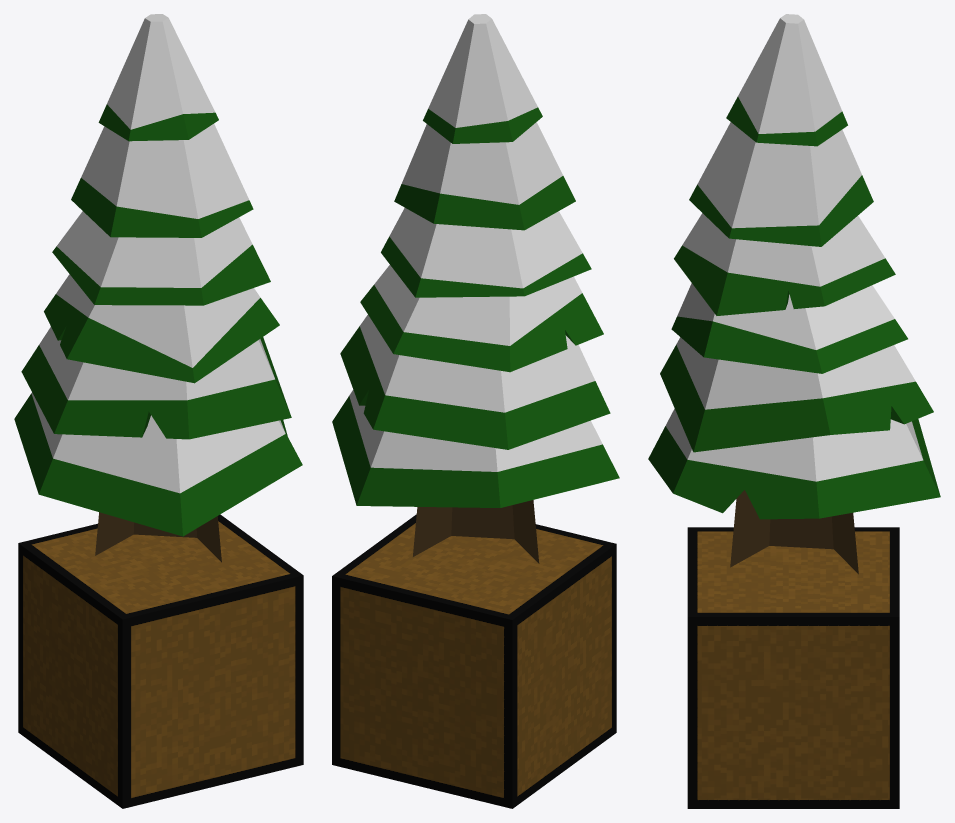
Rendered from PineTree3.glb.
3 renders of one model, left to right at view 1: azimuth 30°, elevation 25°; view 2: azimuth 150°, elevation 25°; view 3: azimuth 270°, elevation 25°, orthographic.
Visible parts, largest first — view 1: Pine, DirtBaked; view 2: Pine, DirtBaked; view 3: Pine, DirtBaked.
Boxes of the visible parts, x1=… form: Pine: x1=14, y1=14, x2=302, y2=562; DirtBaked: x1=18, y1=514, x2=303, y2=808; Pine: x1=332, y1=14, x2=619, y2=563; DirtBaked: x1=332, y1=514, x2=616, y2=808; Pine: x1=648, y1=14, x2=940, y2=574; DirtBaked: x1=687, y1=527, x2=899, y2=808.
Bounding box in the file's own units: 1.43 × 3.79 × 1.35.
4 materials, 1 textured.
